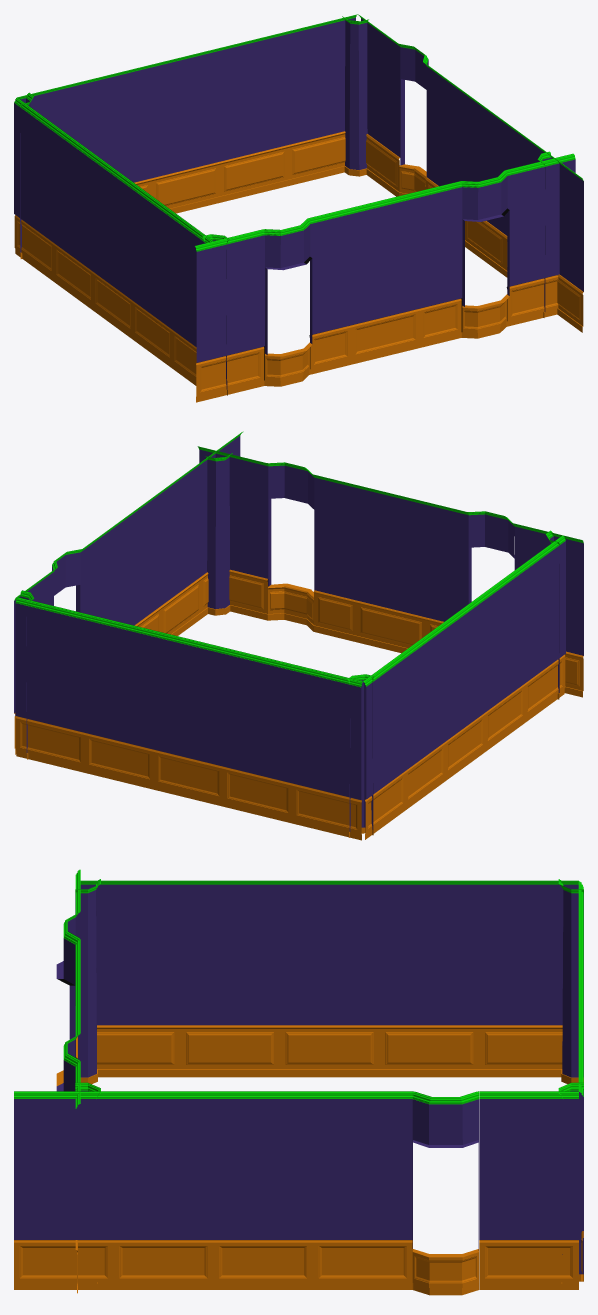
File: SM_Walls_001.fbx
3 views of the same model, one above another, from view 1: azimuth 30°, elevation 25°; view 2: azimuth 150°, elevation 25°; view 3: azimuth 270°, elevation 25° (orthographic). The views are drawn at different scales.
Parts seen in each view (by area): view 1: SM_Walls_001; view 2: SM_Walls_001; view 3: SM_Walls_001.
Part boxes in pixels (x1=…): SM_Walls_001: x1=14, y1=14, x2=583, y2=402; SM_Walls_001: x1=14, y1=431, x2=583, y2=840; SM_Walls_001: x1=14, y1=869, x2=583, y2=1295.
Size of the model in its own units: 872 by 343 by 897.
